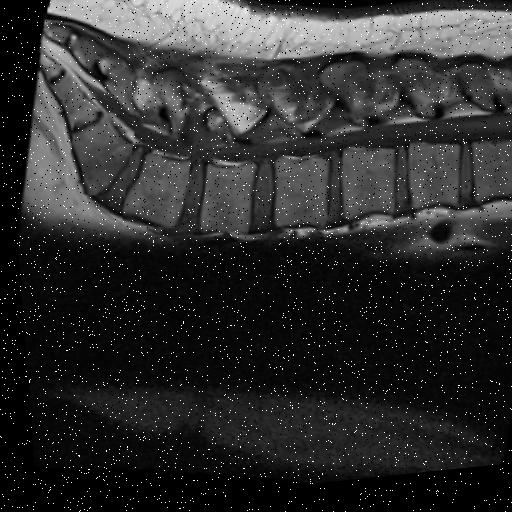L1: (405, 152, 455, 217)
L2: (338, 155, 392, 227)
L3: (269, 164, 324, 232)
L4: (195, 168, 252, 237)
L5: (119, 158, 187, 231)
S1: (69, 114, 130, 197)
